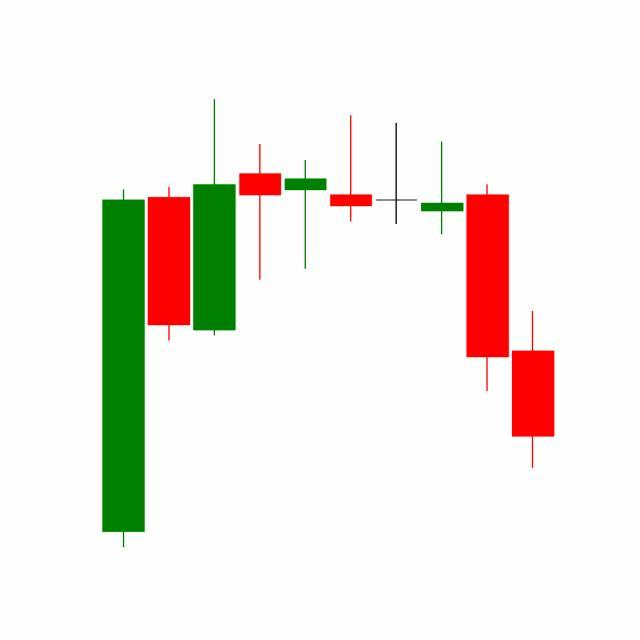Hikkake Pattern: (283, 113, 512, 395)
